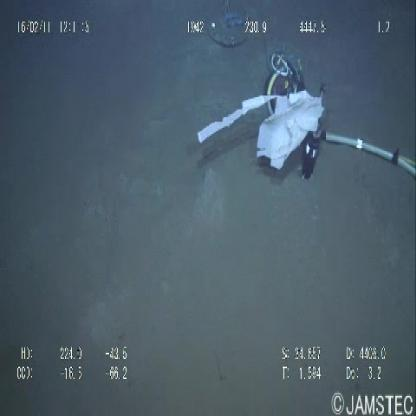Rác: (195, 86, 326, 176)
